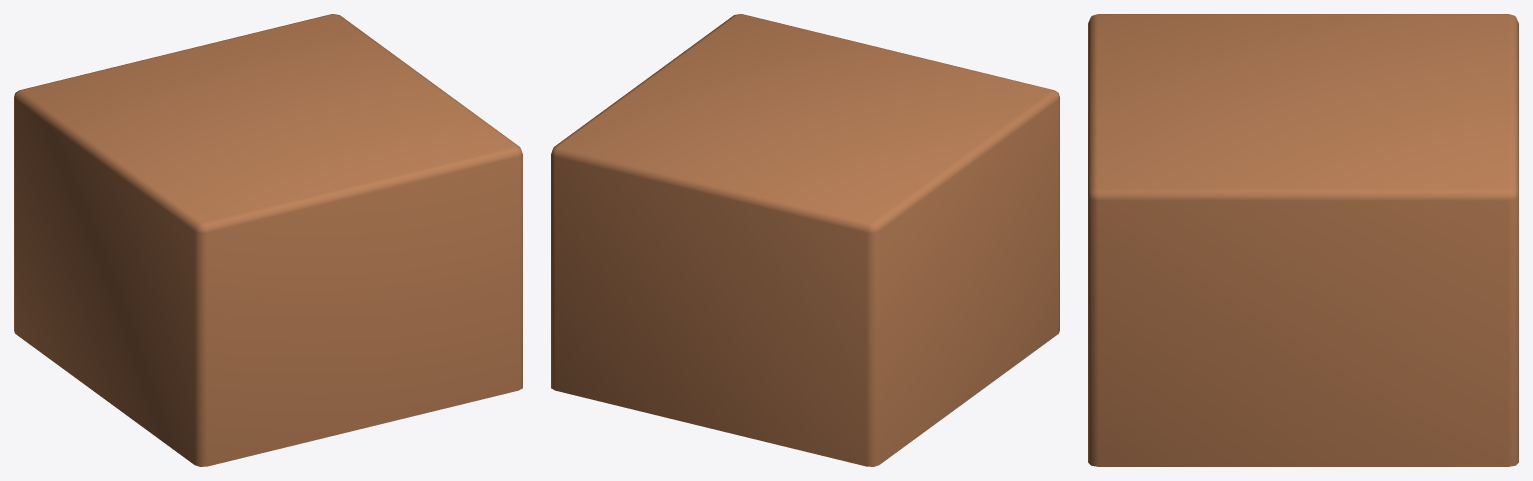
Rendered from Dirt.fbx.
3 renders of one model, left to right at view 1: azimuth 30°, elevation 25°; view 2: azimuth 150°, elevation 25°; view 3: azimuth 270°, elevation 25°, orthographic. The views are drawn at different scales.
Visible parts, largest first — view 1: LP.005; view 2: LP.005; view 3: LP.005.
Boxes of the visible parts, x1,y1,x2,y2 form: LP.005: (14, 14, 522, 466); LP.005: (551, 14, 1059, 466); LP.005: (1088, 14, 1518, 466).
Bounding box in the file's own units: 193 × 136 × 193.
